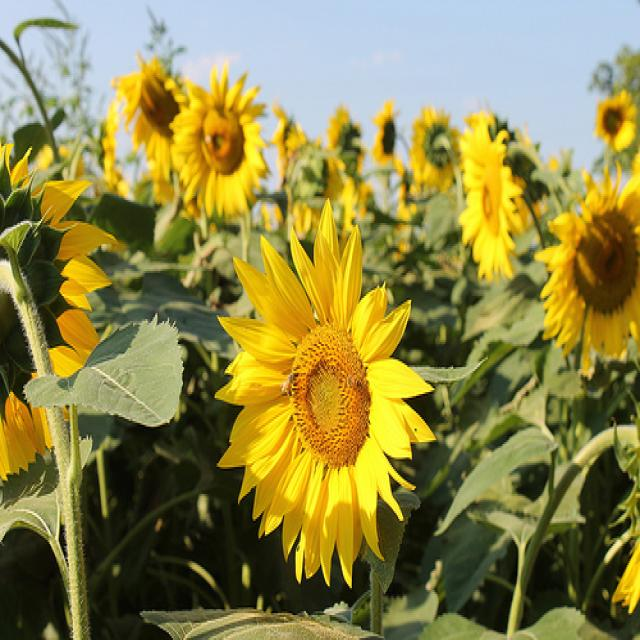sunflower: (229, 232, 428, 580), (540, 181, 640, 356), (172, 77, 268, 217), (460, 115, 528, 284), (113, 79, 184, 195), (412, 110, 462, 186), (594, 95, 634, 146)
